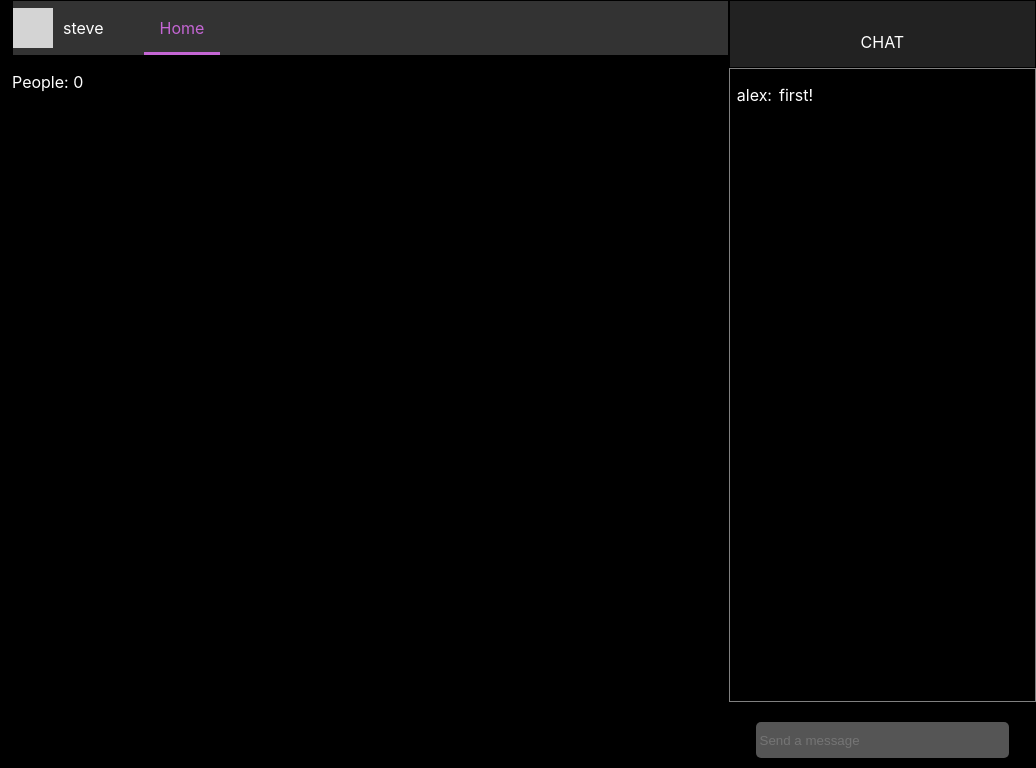
ChannelCont › sends a comment on Enter and clears the input
Type "nice stream" into the field with placeholder "Send a message" at (882, 740), box [756,722,1009,758]
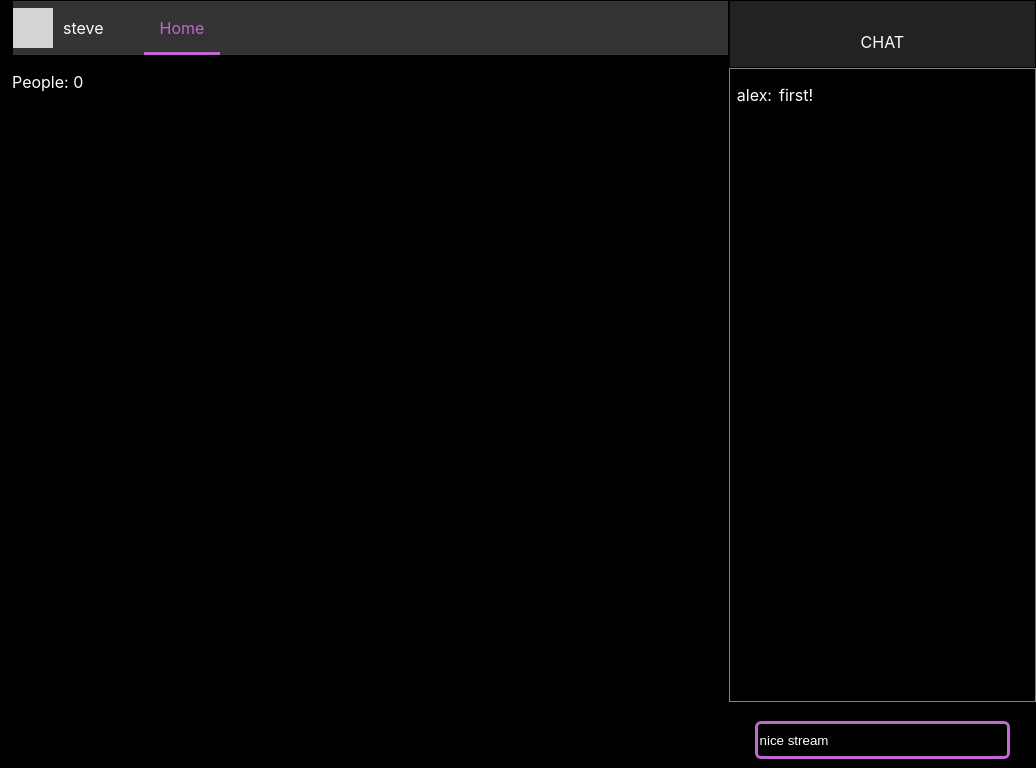
Press Enter in the field with placeholder "Send a message", box [756,722,1009,758]
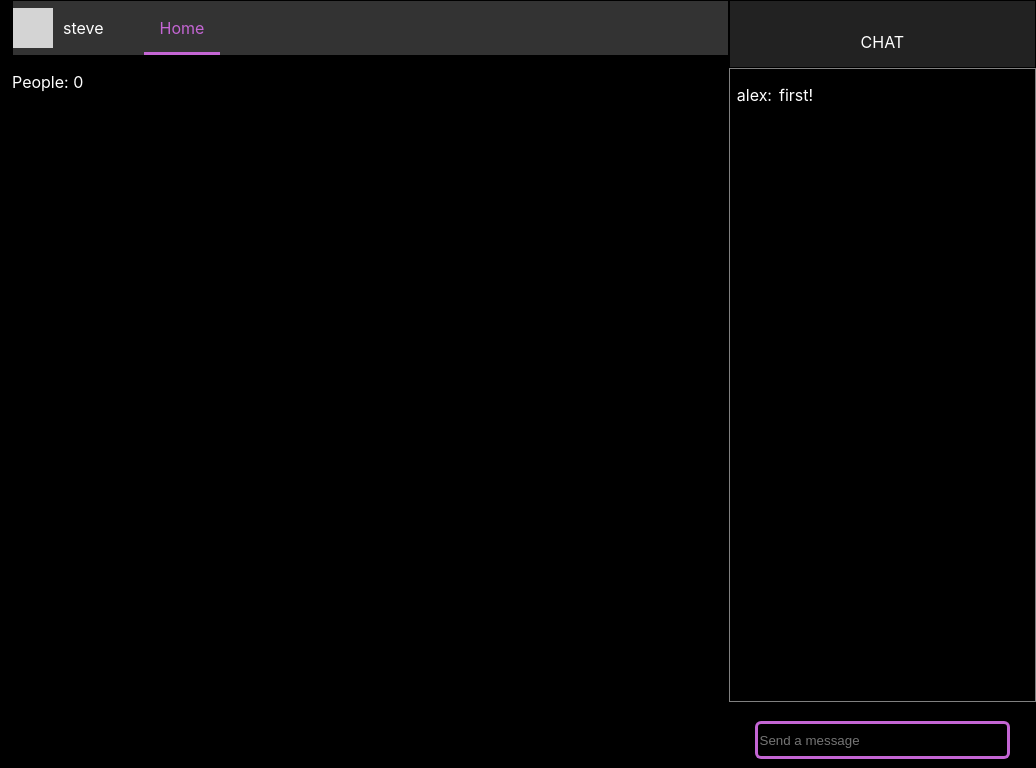
Expected: the field with placeholder "Send a message" is empty, [756,722,1009,758]
